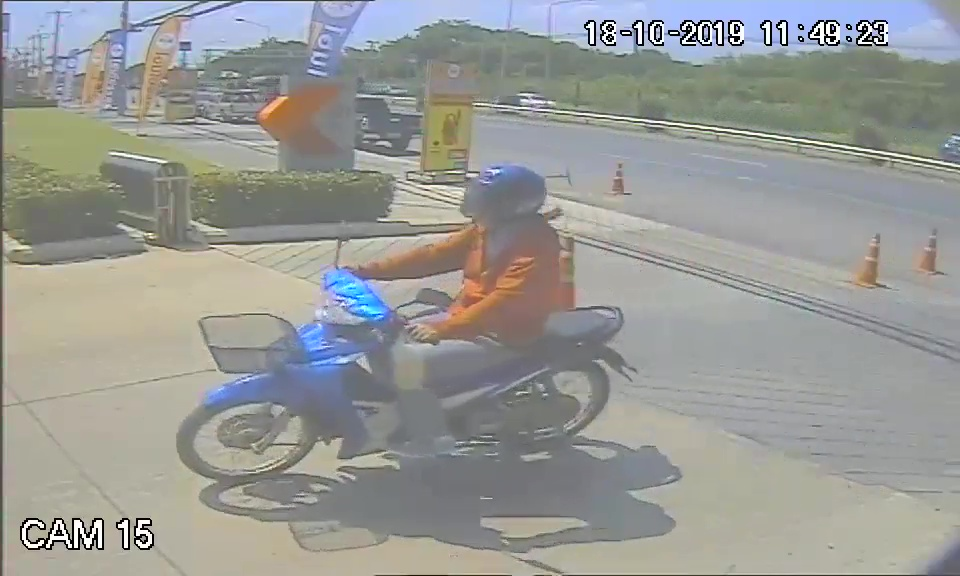motorcycle: (168, 257, 643, 485)
